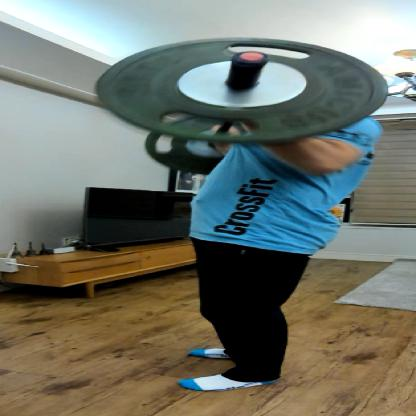Barbell: (78, 31, 412, 145)
